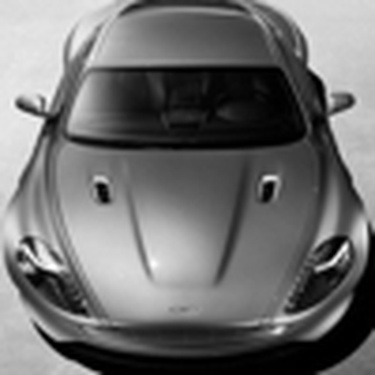car: (7, 4, 369, 371)
